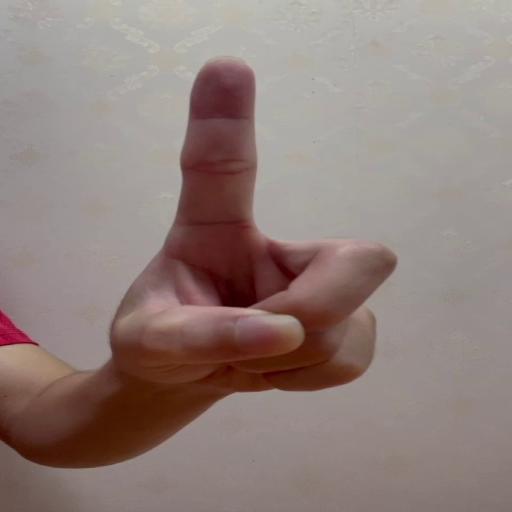point: (162, 53, 400, 399)
